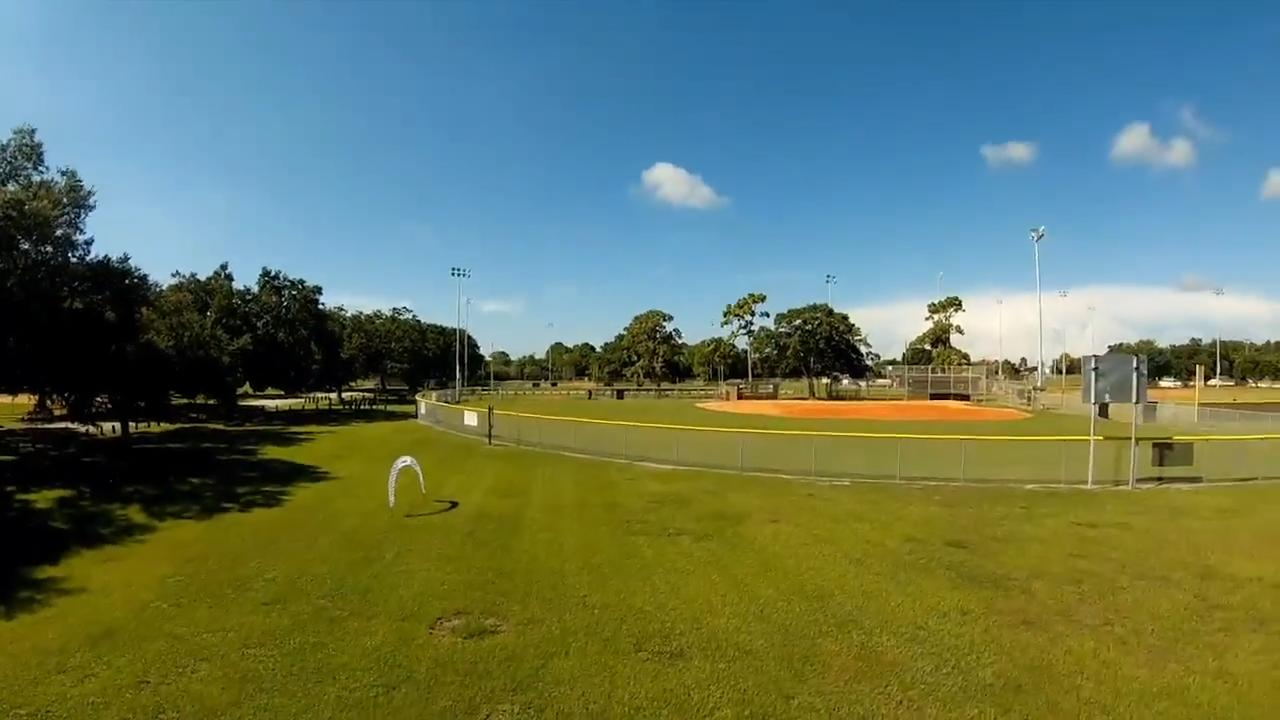gate: (383, 453, 429, 507)
